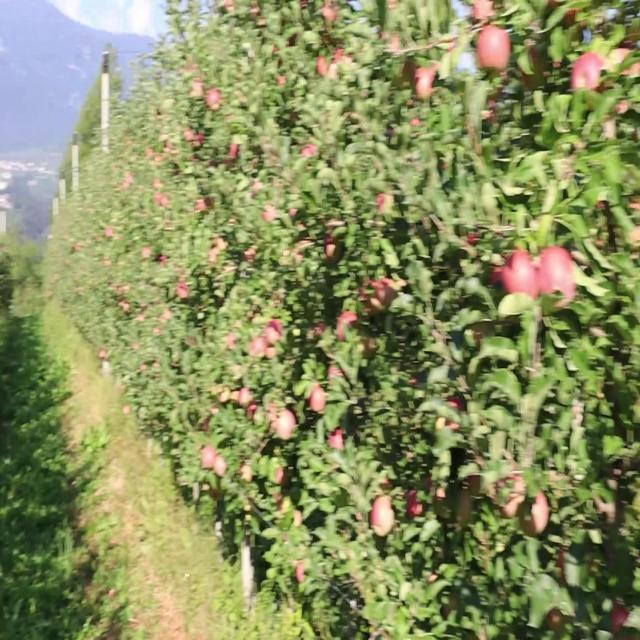apple: (540, 248, 577, 311), (480, 28, 512, 73), (508, 255, 540, 300), (496, 476, 527, 519), (524, 490, 551, 539), (572, 56, 604, 94), (520, 49, 545, 91), (440, 398, 466, 434), (456, 490, 473, 530), (472, 0, 497, 27), (492, 257, 511, 288), (612, 604, 629, 636), (340, 312, 358, 341), (416, 71, 434, 100), (280, 412, 297, 441), (408, 490, 425, 519), (312, 383, 327, 414), (328, 426, 345, 452), (548, 611, 565, 635), (324, 234, 339, 261), (376, 191, 393, 213), (328, 362, 346, 382), (560, 547, 569, 583), (268, 405, 279, 432), (404, 63, 418, 84), (240, 462, 253, 484), (376, 191, 388, 213), (388, 35, 401, 55), (240, 391, 252, 409), (296, 561, 305, 583), (564, 14, 578, 28), (264, 206, 276, 222), (248, 405, 259, 421), (320, 56, 328, 78), (232, 142, 240, 160), (180, 284, 189, 299), (156, 177, 163, 190)
